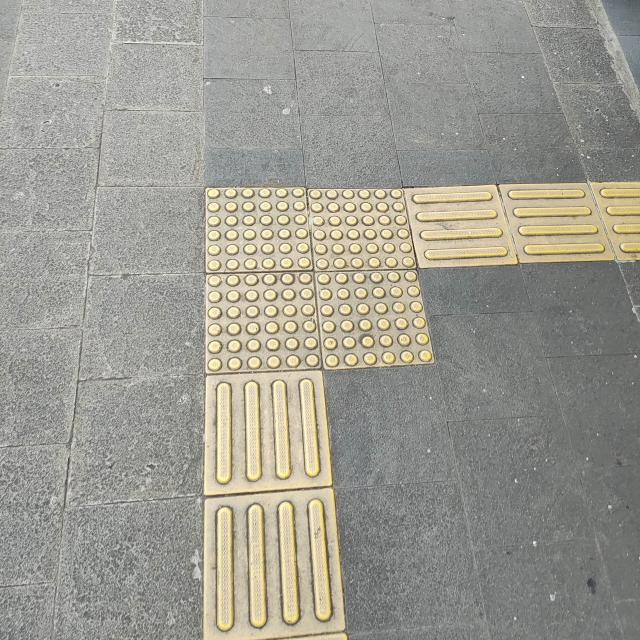kanan: (134, 127, 640, 423)
